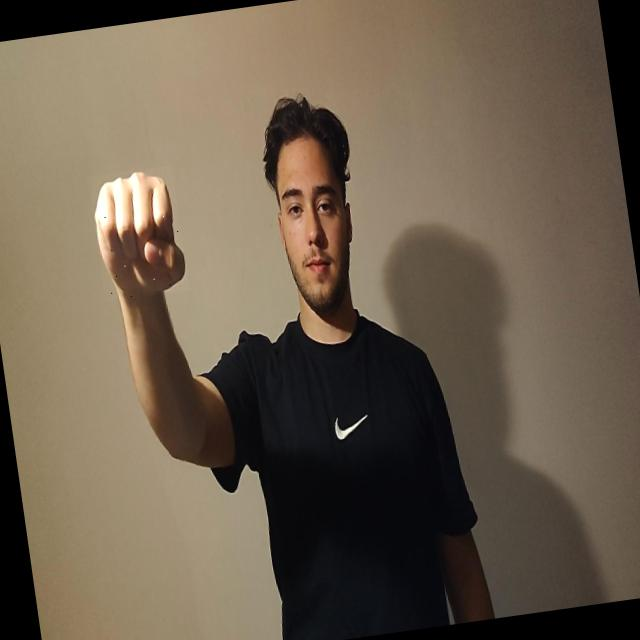yes: (88, 165, 190, 302)
